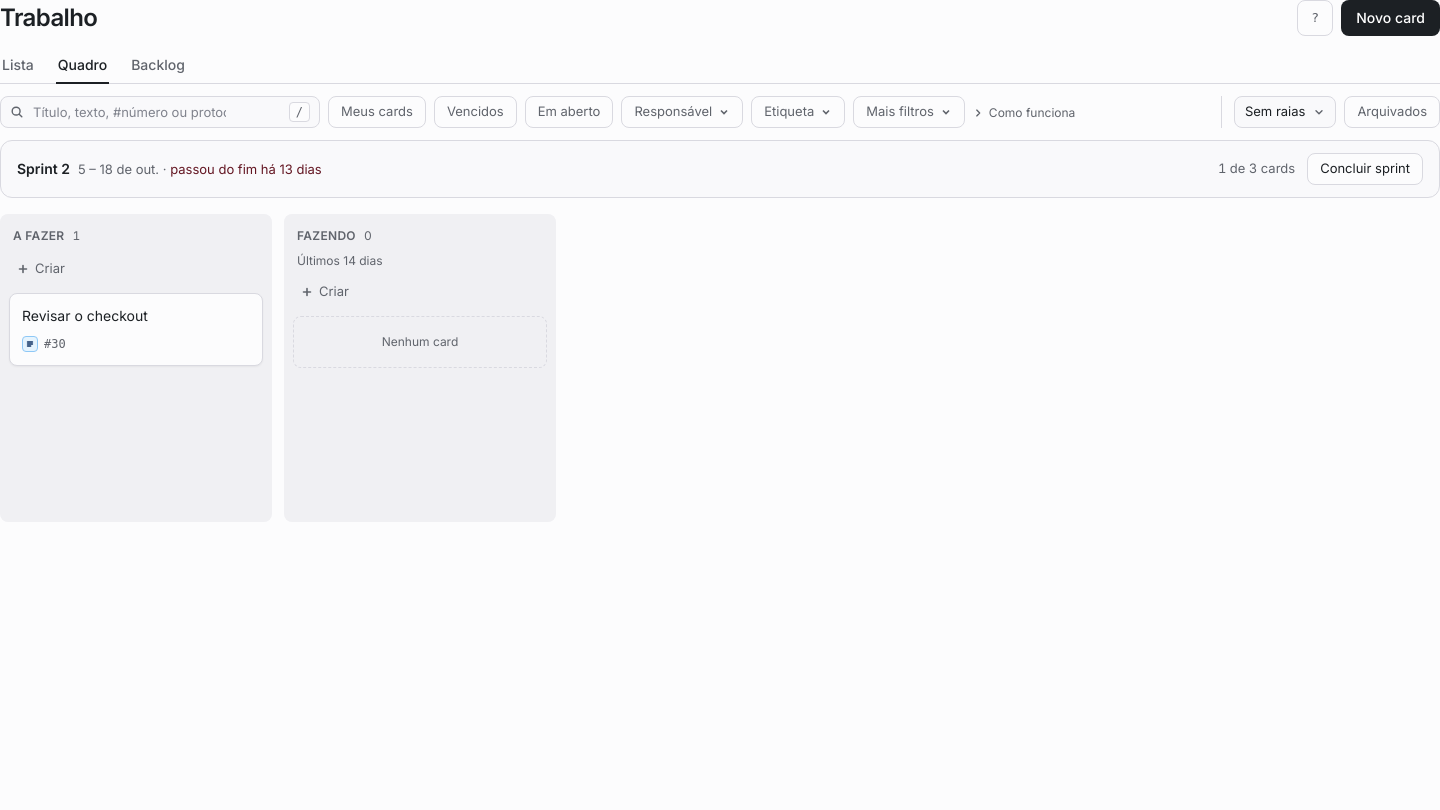
Test: o card novo, com as sprints ligadas › "Levar para a Sprint 2" que a API recusa mostra o erro, e o card continua fora do quadro
Check: the element named "Sprint em andamento: Sprint 2" is shown, box [0,140,1439,198]
Check: the text "Revisar o checkout" is shown, box [22,307,148,324]
Click the button "Novo card".
click(1391, 18)  # box [1341,0,1439,36]
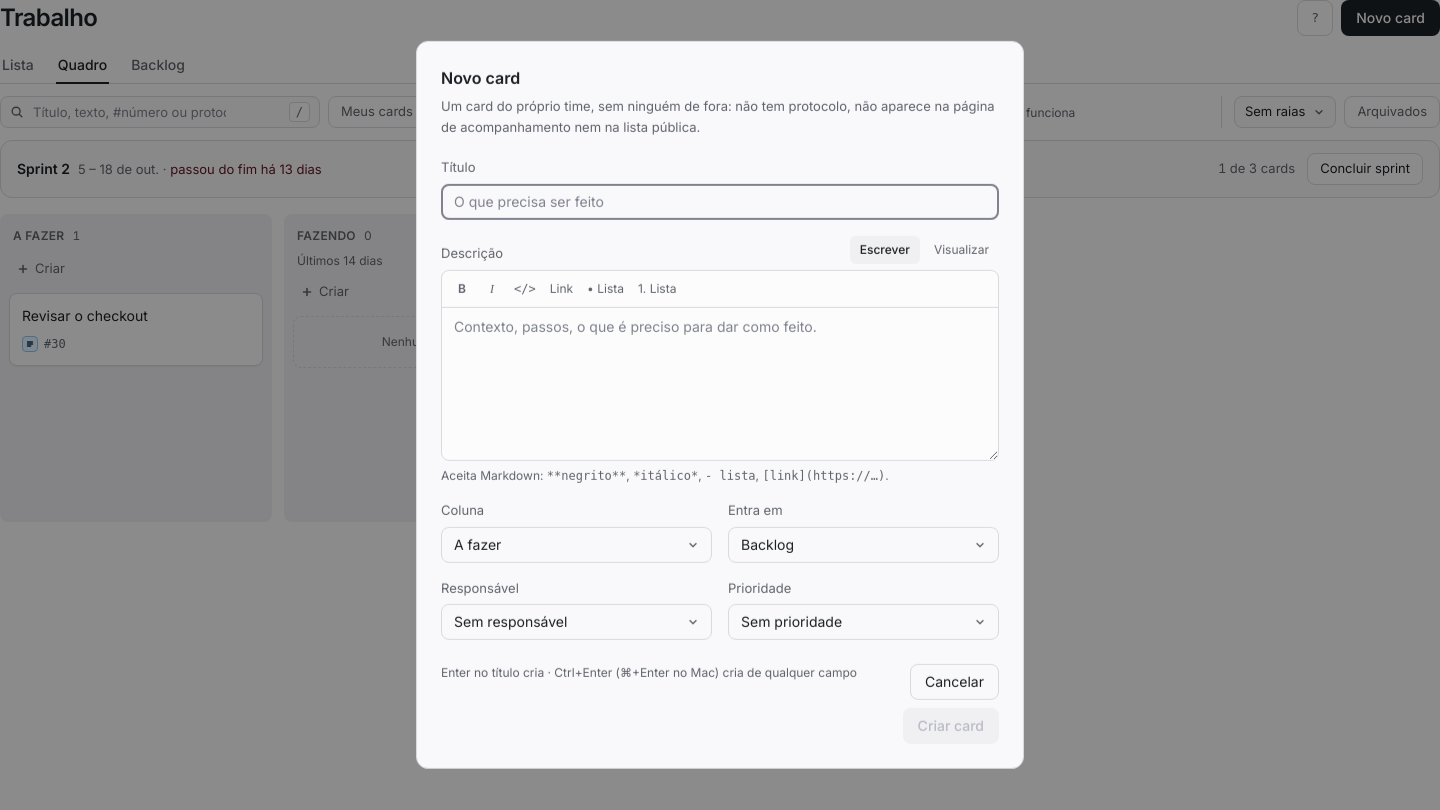
Type "Trocar o gateway" into the field labelled "Título".
click(720, 202); type("Trocar o gateway")  # box [441,184,999,220]
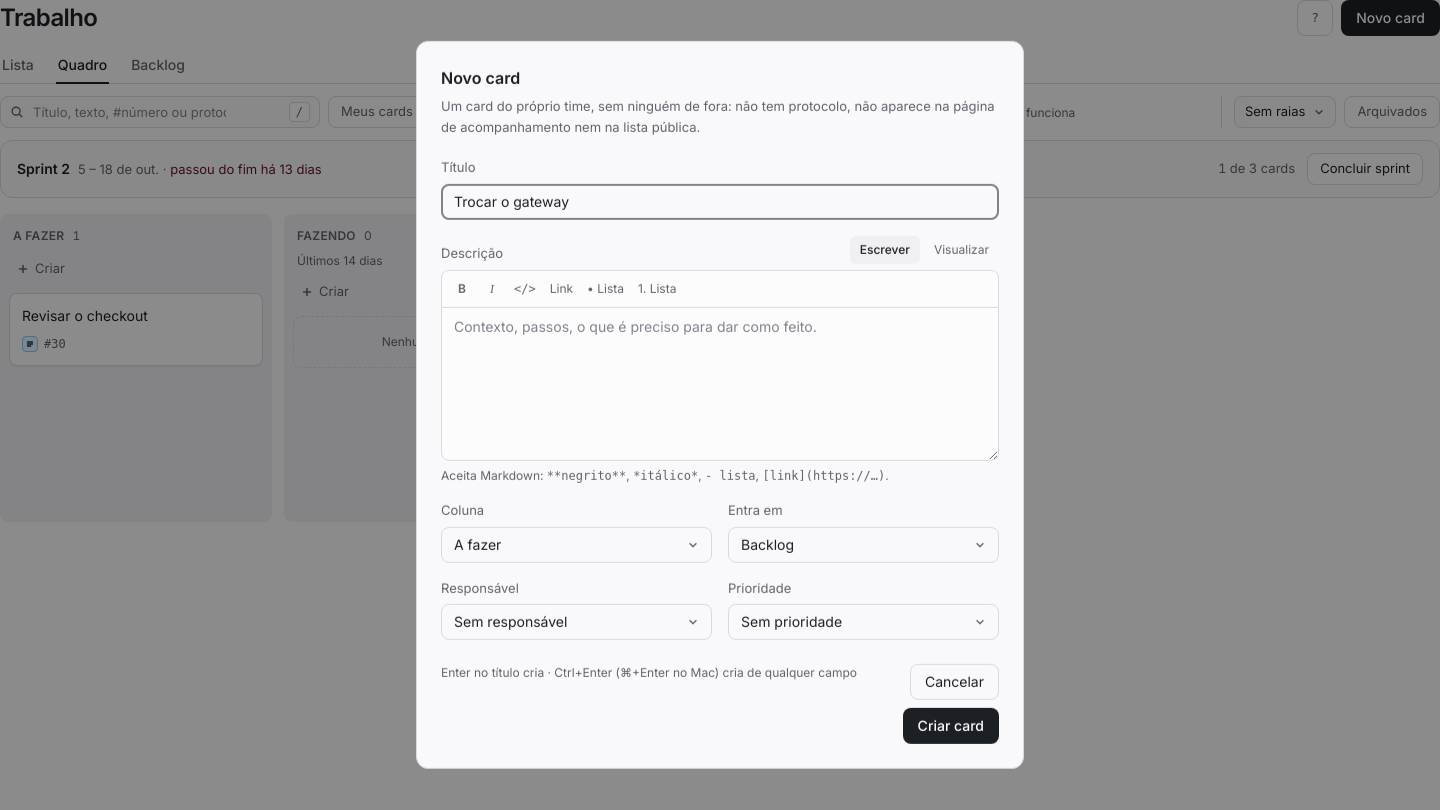
Click the button "Criar card".
click(951, 726)  # box [903,708,999,744]
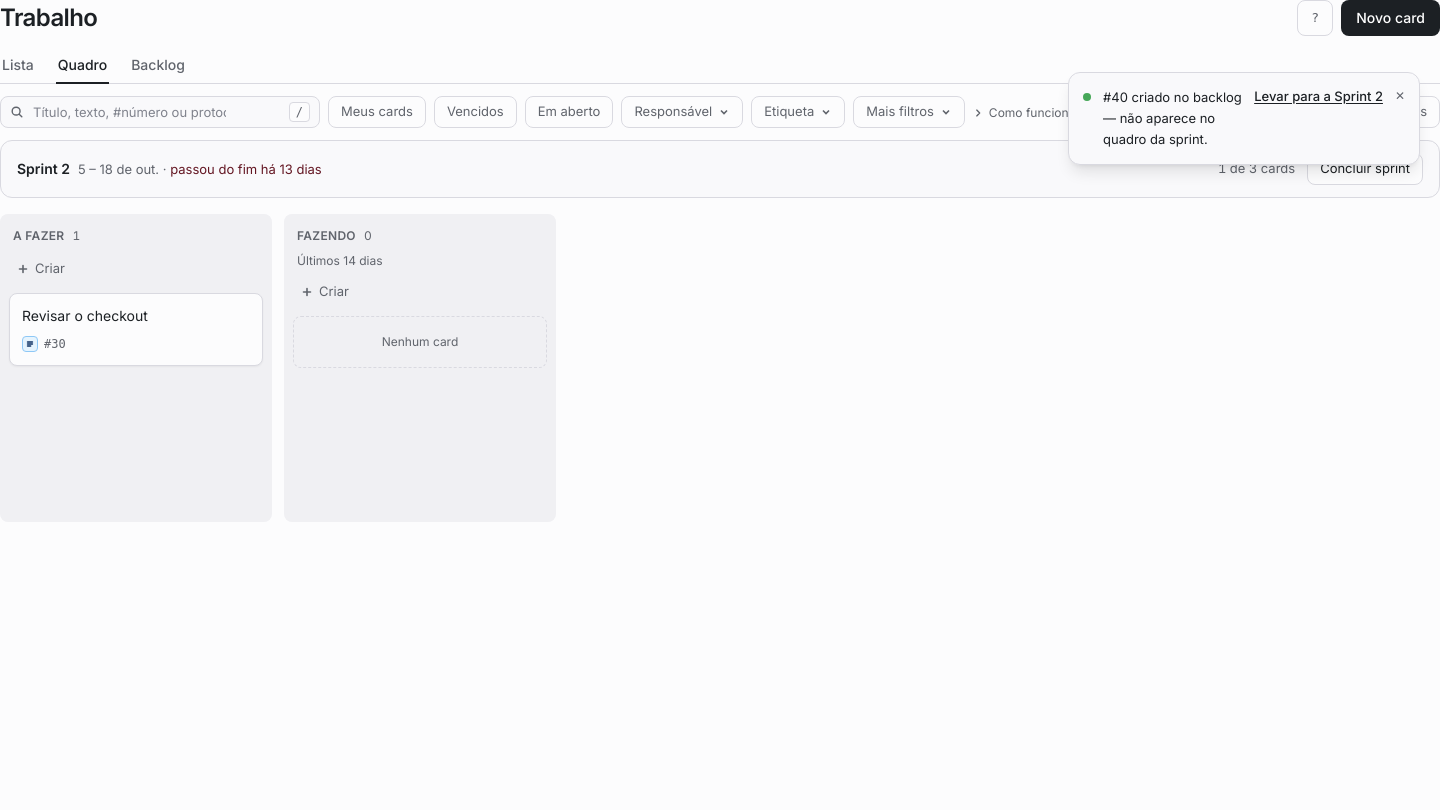
Check: the dialog is gone
Click the button "Levar para a Sprint 2".
click(1319, 97)  # box [1254,87,1383,106]
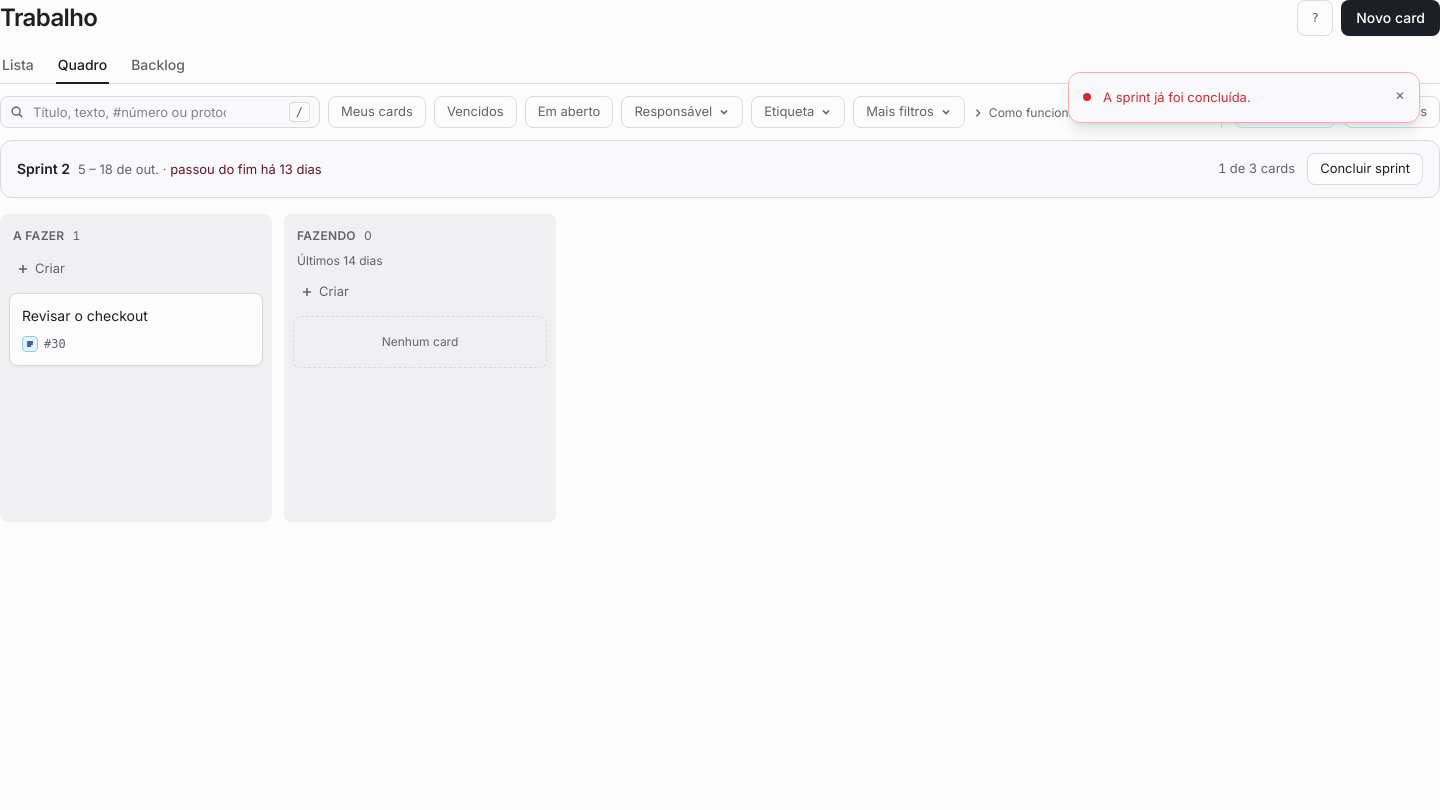
Check: the text "Trocar o gateway" is not shown
Check: the message shows "A sprint já foi concluída.", box [1103,89,1251,105]
